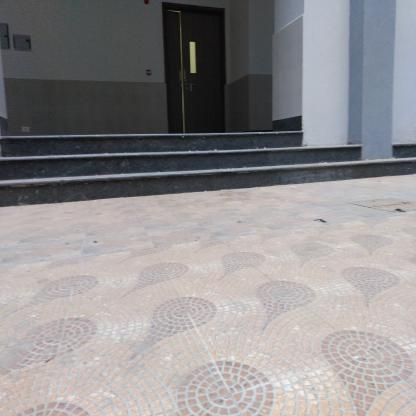stairs: (3, 131, 303, 197)
